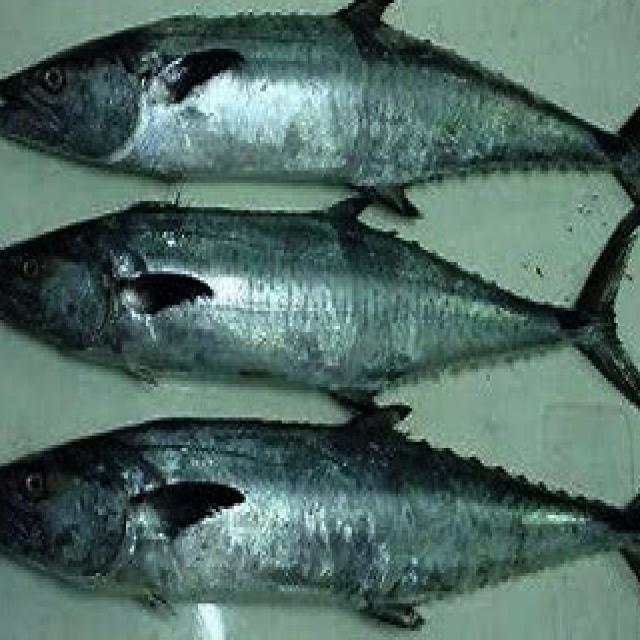seer: (0, 402, 640, 631), (0, 194, 640, 418)
